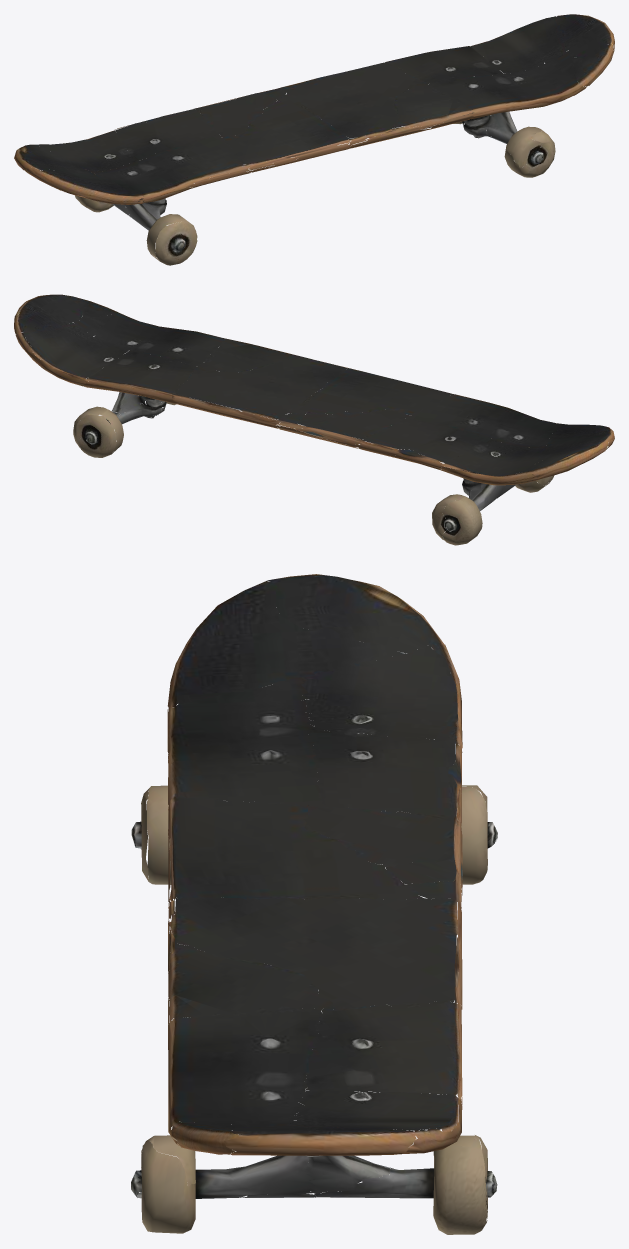
The model's file is board.glb.
3 views of the same model, one above another, from view 1: azimuth 30°, elevation 25°; view 2: azimuth 150°, elevation 25°; view 3: azimuth 270°, elevation 25° (orthographic). The views are drawn at different scales.
Visible parts, largest first — view 1: tripo_node_ee3fbd45-57f6-42ec-952b-56d522f6a58c; view 2: tripo_node_ee3fbd45-57f6-42ec-952b-56d522f6a58c; view 3: tripo_node_ee3fbd45-57f6-42ec-952b-56d522f6a58c.
Part boxes in pixels (<box>): tripo_node_ee3fbd45-57f6-42ec-952b-56d522f6a58c: <box>14,14,614,265</box>; tripo_node_ee3fbd45-57f6-42ec-952b-56d522f6a58c: <box>14,294,614,545</box>; tripo_node_ee3fbd45-57f6-42ec-952b-56d522f6a58c: <box>131,574,497,1234</box>.
Size of the model in its own units: 0.98 by 0.1614 by 0.2674.
1 material, 1 textured.
